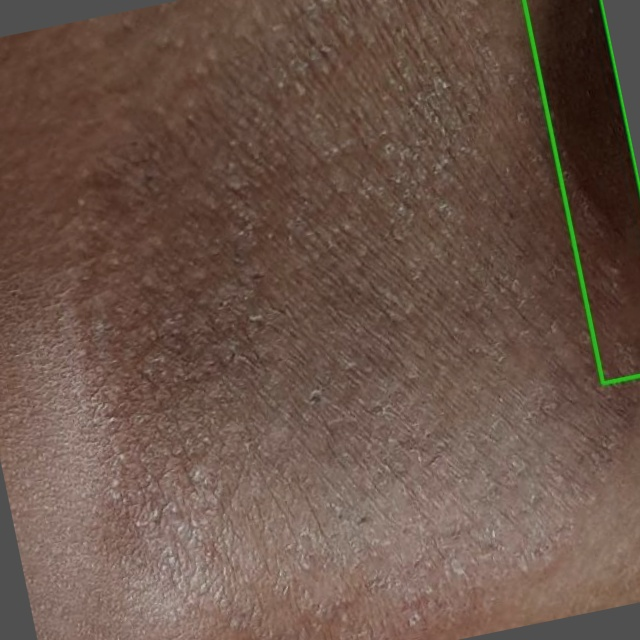Tinea Corporis: (524, 0, 639, 383)
